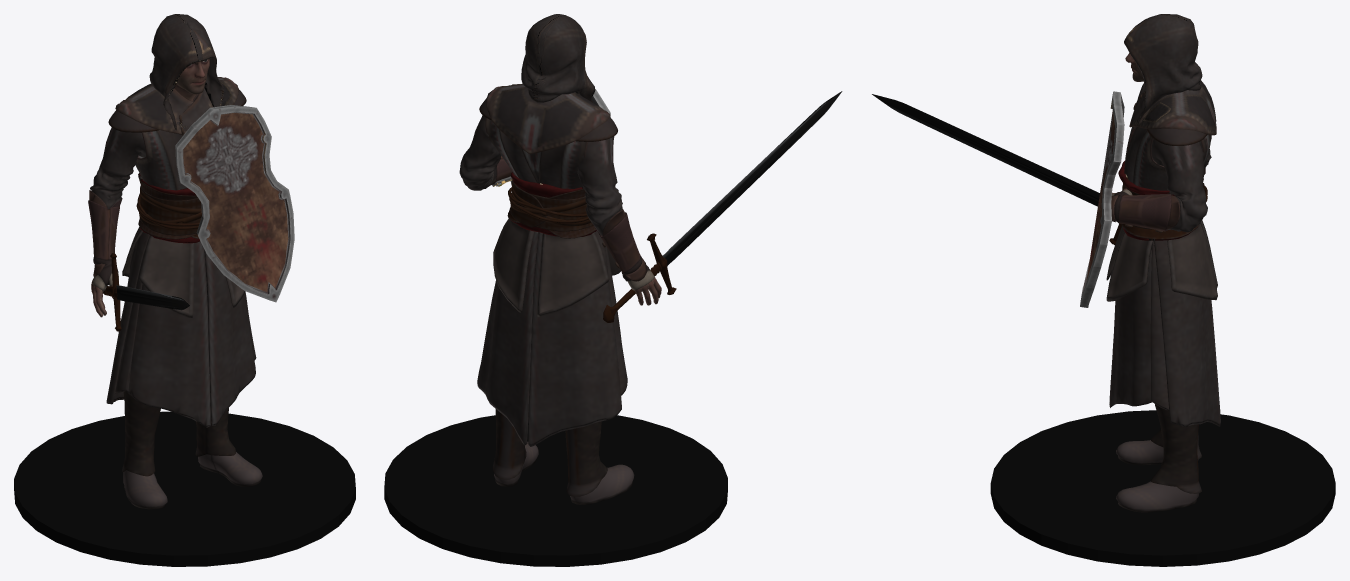
File: Henri.fbx
3 views of the same model, side by side, from view 1: azimuth 30°, elevation 25°; view 2: azimuth 150°, elevation 25°; view 3: azimuth 270°, elevation 25° (orthographic).
Visible parts, largest first — view 1: Henri; view 2: Henri; view 3: Henri.
Part boxes in pixels (x1,y1,x2,y2): Henri: (14, 14, 355, 566); Henri: (384, 14, 842, 566); Henri: (872, 14, 1335, 566).
Size of the model in its own units: 94.02 by 144 by 127.
Materials: 1 (1 with a texture image).
